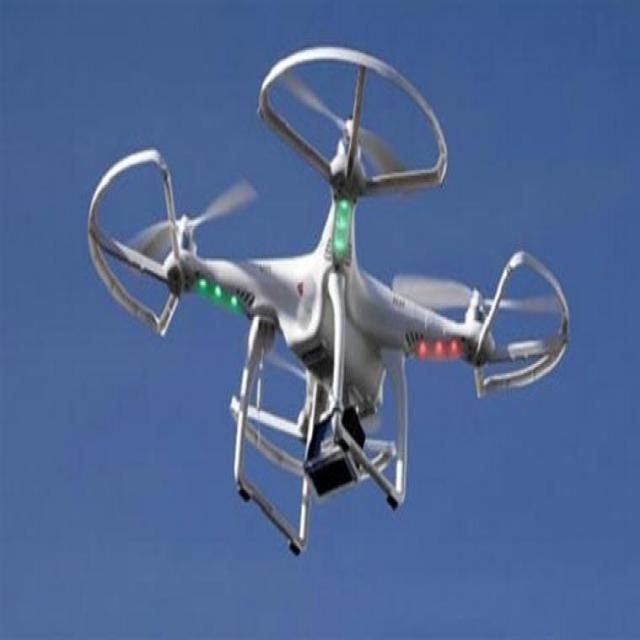UAV: (88, 40, 571, 562)
